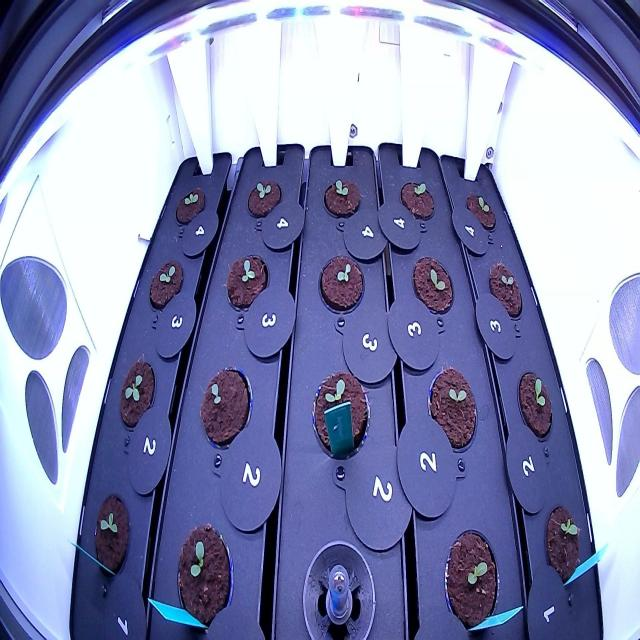germination: (170, 519, 238, 637), (439, 523, 508, 637), (307, 362, 373, 462), (421, 361, 480, 458), (198, 360, 255, 452), (87, 491, 136, 592), (540, 500, 587, 597), (314, 249, 368, 318), (511, 367, 558, 444), (222, 248, 272, 316), (116, 352, 156, 436), (408, 251, 456, 320), (484, 256, 526, 332), (146, 252, 186, 318), (397, 169, 438, 228), (321, 170, 362, 222), (460, 188, 500, 234), (172, 182, 207, 232), (244, 174, 282, 220)
